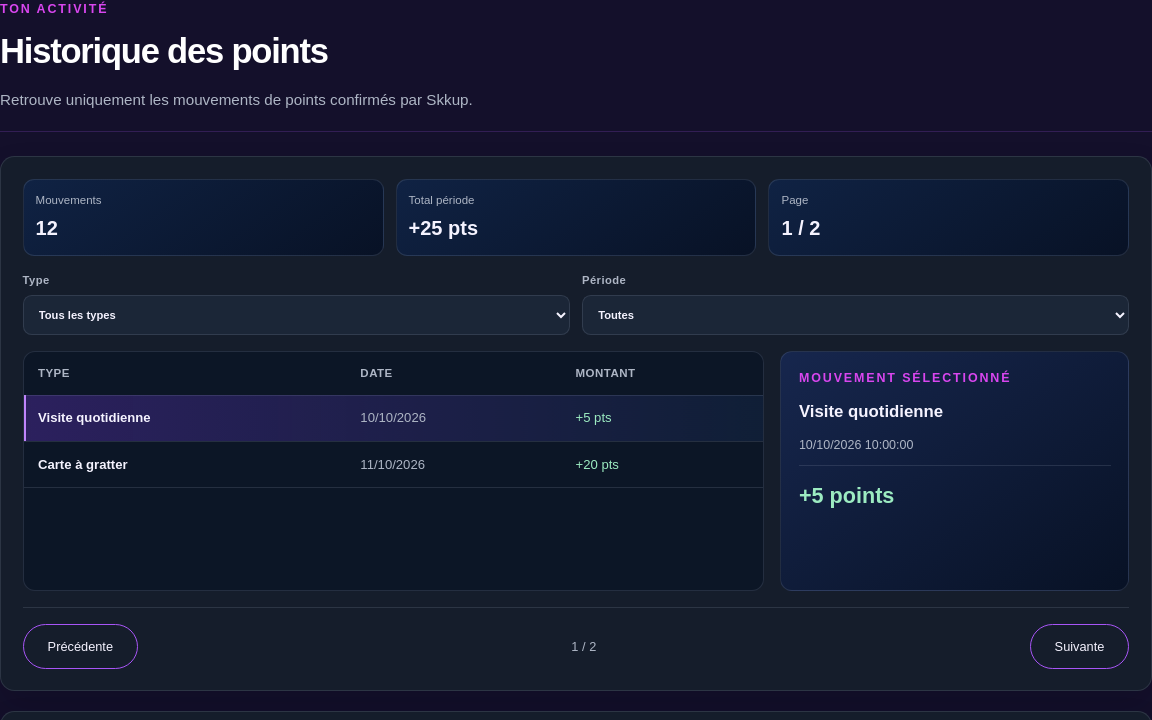
it: HistoriquePointsViewer › charge la page suivante avec la pagination
The image size is (1152, 720).
expect the row "Visite quotidienne 10/10/2026 +5 pts" is shown: met, box [24,395,763,441]
Click the button "Suivante" at (1080, 646), box [1030,624,1129,669]
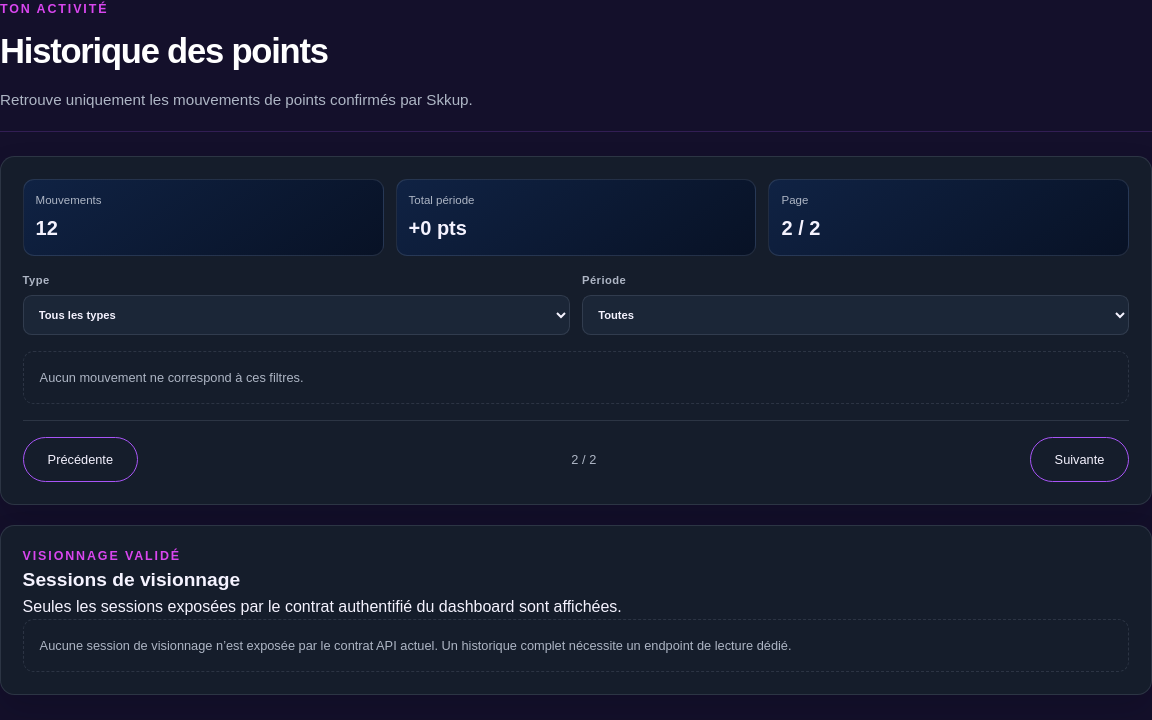
expect the text "Aucun mouvement ne correspond à ces filtres." is shown: met, box [23,351,1129,404]
expect the button "Précédente" is enabled: met, box [23,437,138,482]
